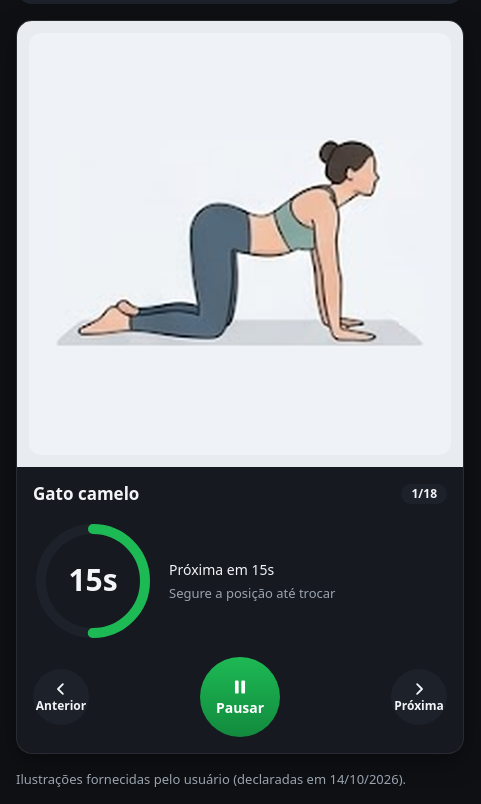
Test case: Alongamentos: troca automática de 30 s › navegação manual reinicia a contagem
(page scrolled)
Expected: the text with test id "alongamento-timer" reads "Próxima em 15s", [169,560,274,578]
Click the button "Próxima".
click(419, 697)  # box [391,669,447,725]
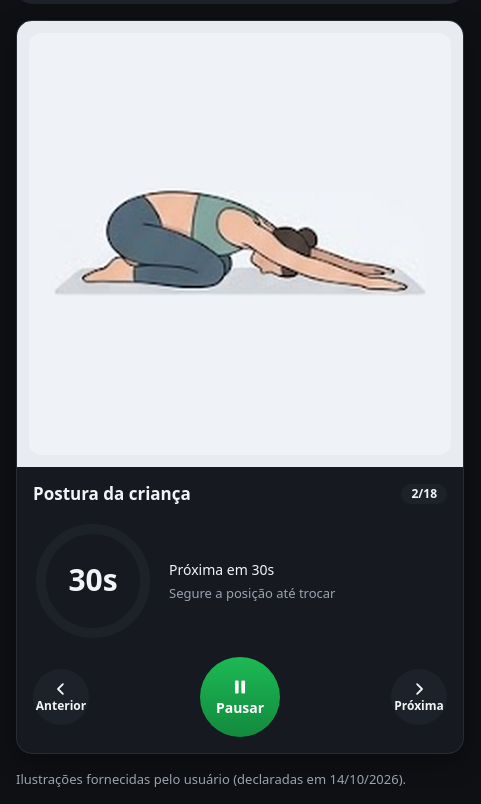
Now the text with test id "alongamento-nome" reads "Postura da criança", box [33,482,191,505]
Now the text with test id "alongamento-timer" reads "Próxima em 30s", box [169,560,274,578]
